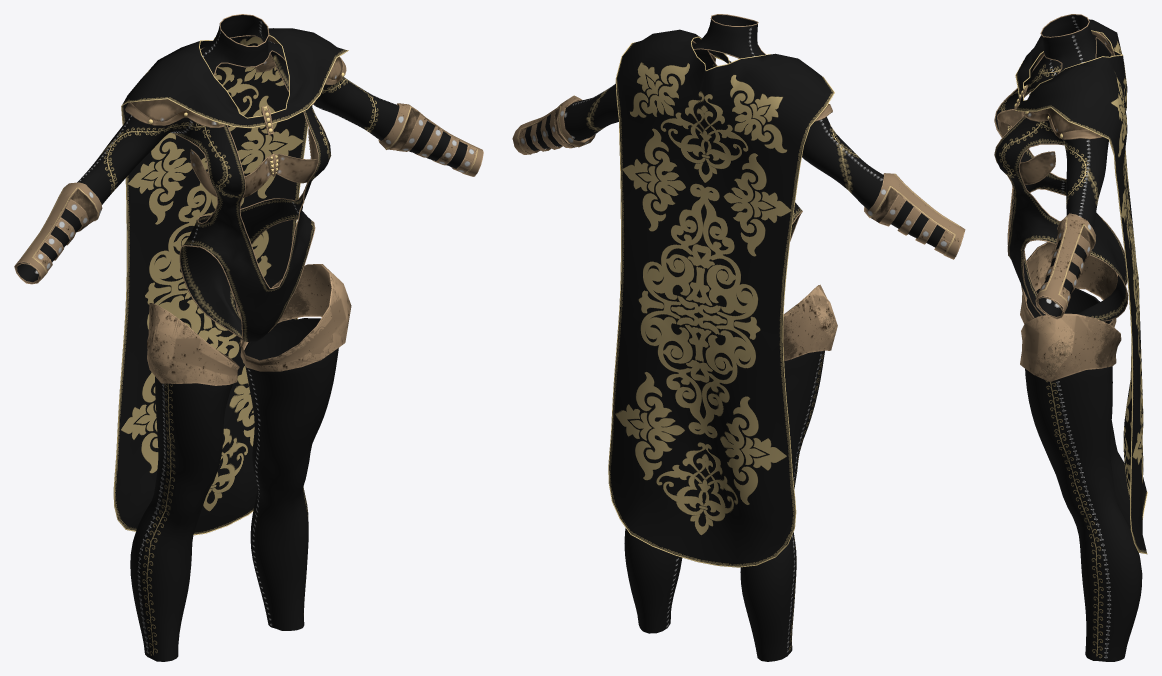
File: free_female_armor__game.glb
3 renders of one model, left to right at view 1: azimuth 30°, elevation 25°; view 2: azimuth 150°, elevation 25°; view 3: azimuth 270°, elevation 25°, orthographic. The views are drawn at different scales.
Visible parts, largest first — view 1: Cloak, LegArmor, ChestArmor; view 2: Cloak, LegArmor, ChestArmor; view 3: LegArmor, ChestArmor, Cloak.
Boxes of the visible parts, x1=… form: Cloak: x1=113, y1=28, x2=348, y2=535; LegArmor: x1=130, y1=264, x2=351, y2=661; ChestArmor: x1=14, y1=14, x2=483, y2=341; Cloak: x1=608, y1=29, x2=834, y2=567; LegArmor: x1=624, y1=284, x2=837, y2=661; ChestArmor: x1=512, y1=14, x2=965, y2=259; LegArmor: x1=1020, y1=242, x2=1142, y2=661; ChestArmor: x1=994, y1=14, x2=1128, y2=321; Cloak: x1=1014, y1=19, x2=1147, y2=554.
Bounding box in the file's own units: 1.71 × 2.23 × 0.5101.
Materials: 3 (3 with a texture image).
